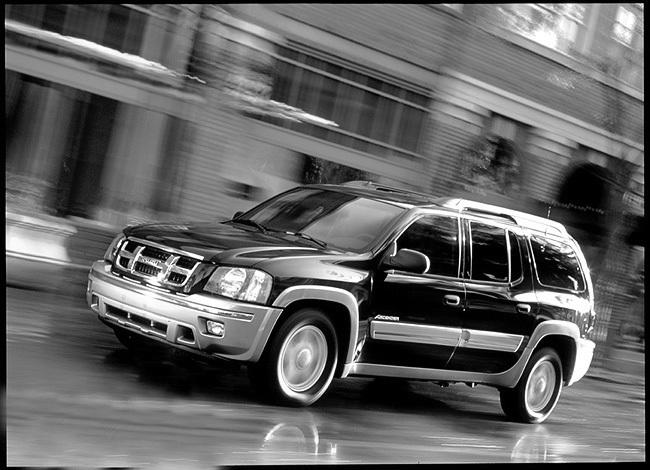car: (83, 180, 600, 428)
